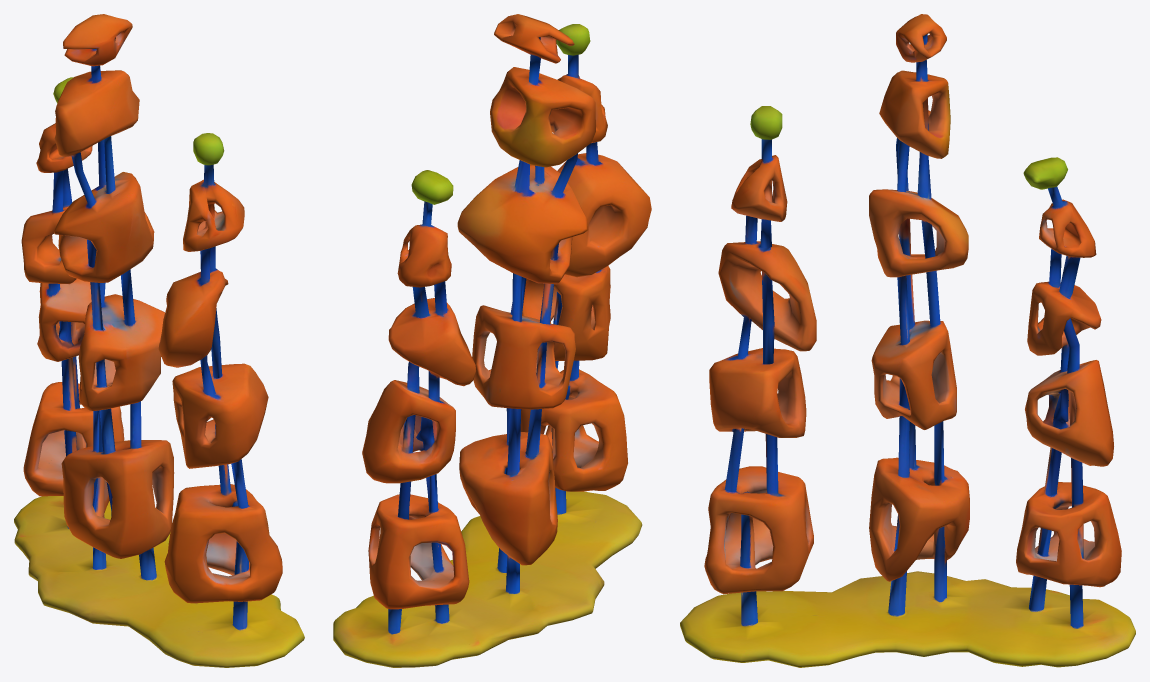
The model's file is 7f528860-524d-4d08-927e-07a3dbbd37c0.glb.
3 views of the same model, side by side, from view 1: azimuth 30°, elevation 25°; view 2: azimuth 150°, elevation 25°; view 3: azimuth 270°, elevation 25° (orthographic). The views are drawn at different scales.
Parts seen in each view (by area): view 1: tripo_node_eca19f68-2f1d-46cd-95bf-6da9bc41d47a; view 2: tripo_node_eca19f68-2f1d-46cd-95bf-6da9bc41d47a; view 3: tripo_node_eca19f68-2f1d-46cd-95bf-6da9bc41d47a.
Boxes of the visible parts, x1=… form: tripo_node_eca19f68-2f1d-46cd-95bf-6da9bc41d47a: x1=14, y1=14, x2=304, y2=667; tripo_node_eca19f68-2f1d-46cd-95bf-6da9bc41d47a: x1=333, y1=14, x2=651, y2=667; tripo_node_eca19f68-2f1d-46cd-95bf-6da9bc41d47a: x1=680, y1=14, x2=1135, y2=667.
Size of the model in its own units: 0.3268 by 1 by 0.6986.
1 material, 1 textured.
